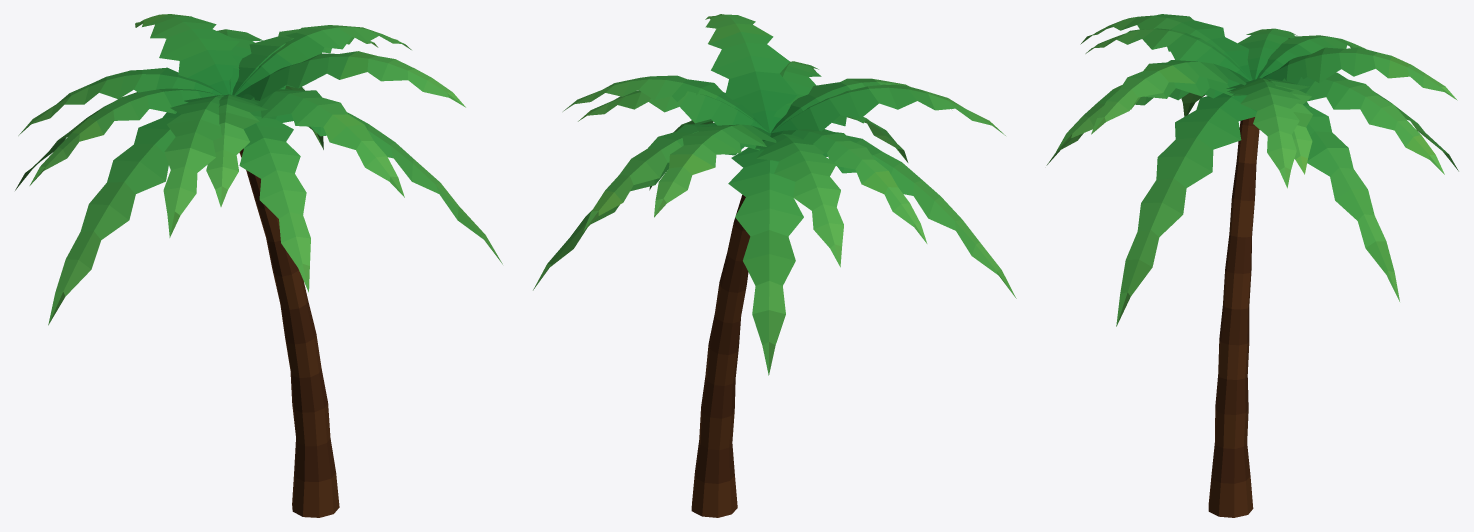
Rendered from palm-1.glb.
The picture shows the model from 3 angles, left to right: view 1: azimuth 30°, elevation 25°; view 2: azimuth 150°, elevation 25°; view 3: azimuth 270°, elevation 25°; orthographic projection. The views are drawn at different scales.
Parts seen in each view (by area): view 1: palm-1; view 2: palm-1; view 3: palm-1.
Part boxes in pixels (left/top/right/bottom): palm-1: left=15, top=14, right=502, bottom=517; palm-1: left=533, top=14, right=1016, bottom=517; palm-1: left=1046, top=14, right=1458, bottom=517.
Bounding box in the file's own units: 6.8 × 7.33 × 6.18.
